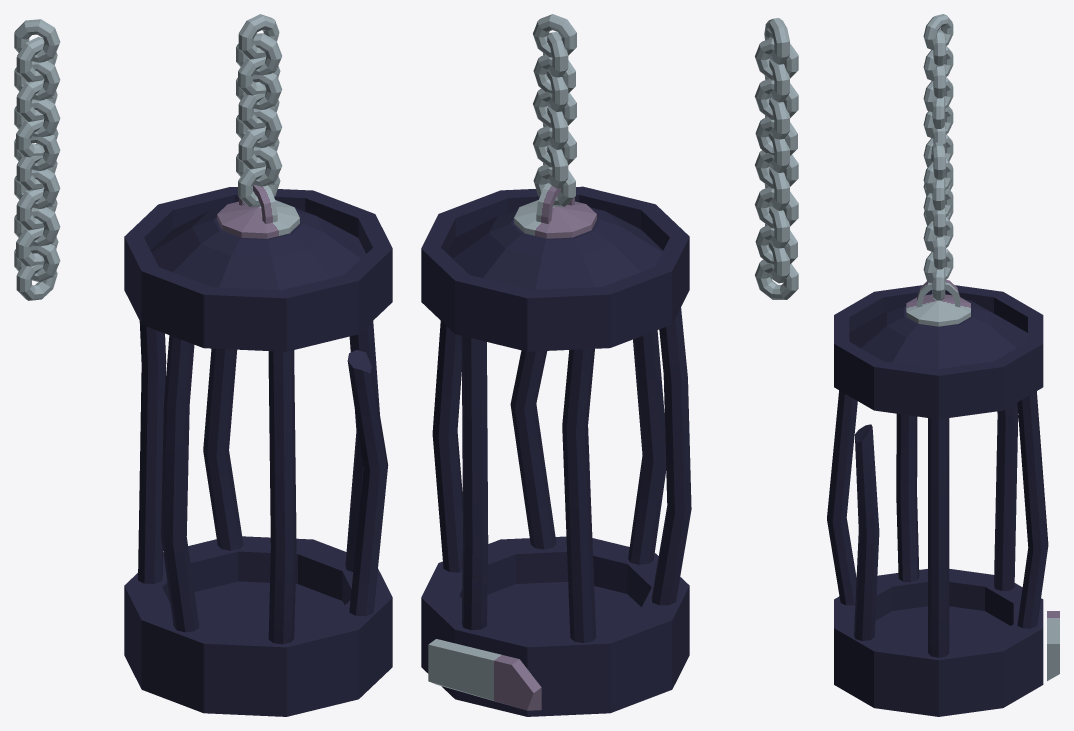
File: cage_03.fbx
3 renders of one model, left to right at view 1: azimuth 30°, elevation 25°; view 2: azimuth 150°, elevation 25°; view 3: azimuth 270°, elevation 25°, orthographic. The views are drawn at different scales.
Parts seen in each view (by area): view 1: cage_03, chaine1; view 2: cage_03, chaine1; view 3: cage_03, chaine1.
Part boxes in pixels (box(x1,y1,x2,y2)): cage_03: box(124, 14, 392, 716); chaine1: box(14, 19, 60, 300); cage_03: box(421, 14, 691, 716); chaine1: box(754, 18, 798, 299); cage_03: box(827, 142, 1059, 716); chaine1: box(923, 14, 953, 225).
Size of the model in its own units: 0.9488 by 1.74 by 0.6473.
Materials: 2 (2 with a texture image).
